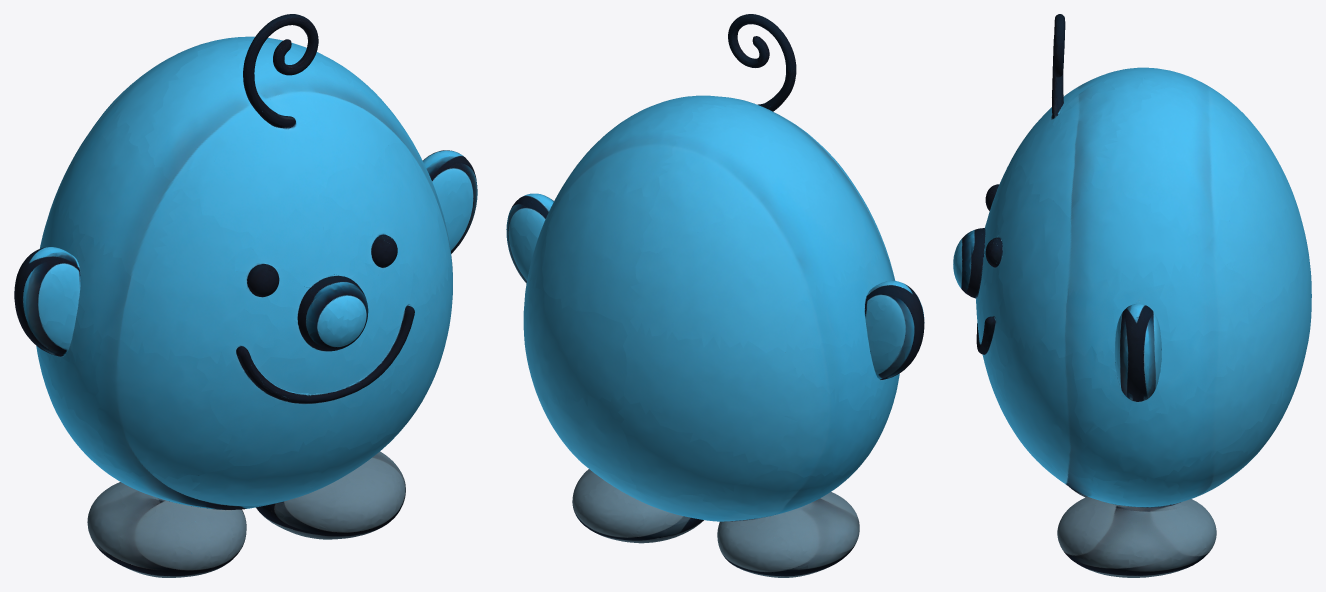
The model's file is helper1_blue.glb.
The picture shows the model from 3 angles, left to right: view 1: azimuth 30°, elevation 25°; view 2: azimuth 150°, elevation 25°; view 3: azimuth 270°, elevation 25°; orthographic projection. The views are drawn at different scales.
Visible parts, largest first — view 1: Mesh_0; view 2: Mesh_0; view 3: Mesh_0.
Part boxes in pixels (x1,y1,x2,y2): Mesh_0: [14, 14, 477, 577]; Mesh_0: [506, 14, 924, 577]; Mesh_0: [953, 14, 1311, 577].
Size of the model in its own units: 1.63 by 1.9 by 1.21.
1 material, 1 textured.
